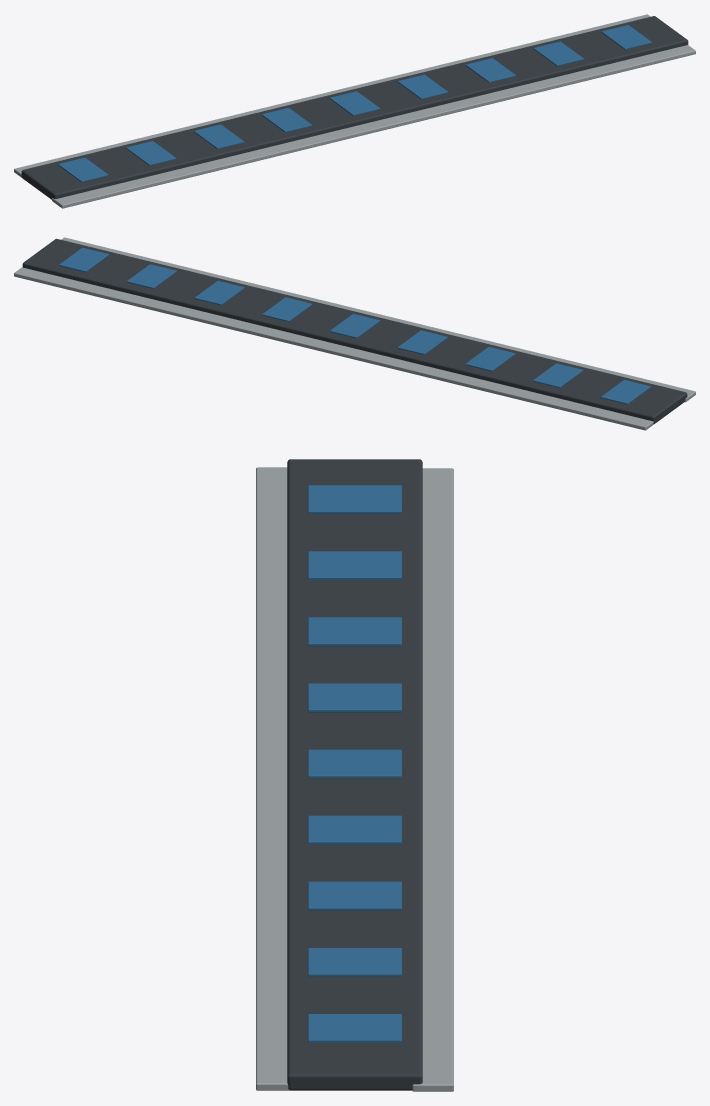
Rendered from fencing-club-and-tournament-piste-floor-cable-cover-b140ba29__31211.glb.
3 views of the same model, one above another, from view 1: azimuth 30°, elevation 25°; view 2: azimuth 150°, elevation 25°; view 3: azimuth 270°, elevation 25° (orthographic). The views are drawn at different scales.
Visible parts, largest first — view 1: floor-cable-cover; view 2: floor-cable-cover; view 3: floor-cable-cover.
Part boxes in pixels (x1=…): floor-cable-cover: x1=14, y1=14, x2=695, y2=208; floor-cable-cover: x1=14, y1=237, x2=695, y2=430; floor-cable-cover: x1=256, y1=459, x2=453, y2=1091.
Bounding box in the file's own units: 1.4 × 0.0221 × 0.19.
